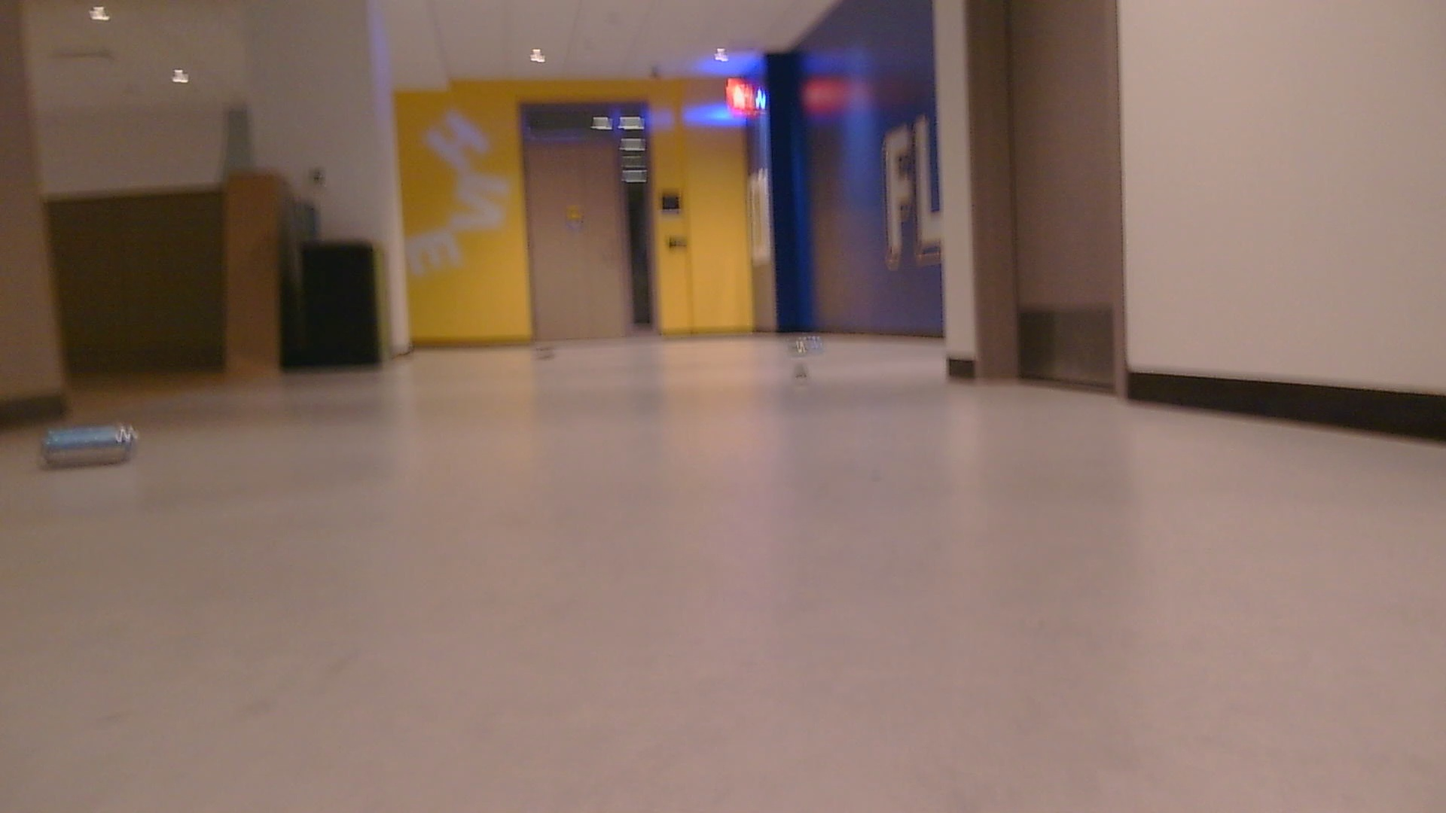can: (41, 424, 137, 467), (787, 336, 821, 379), (535, 346, 554, 358)
